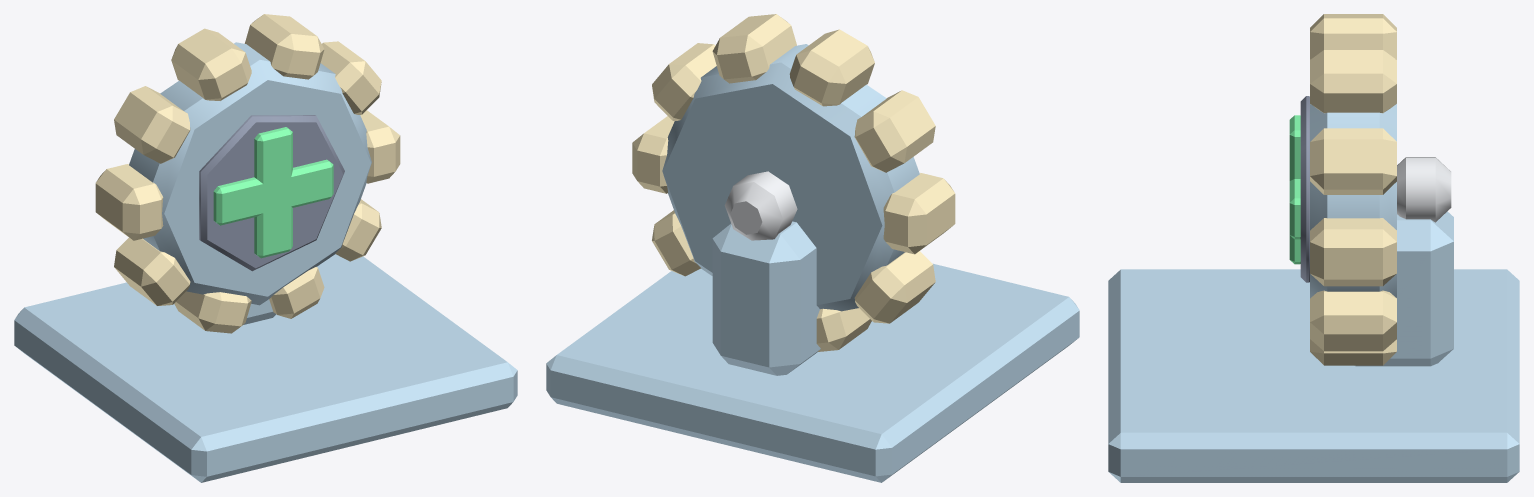
File: R4X_RepairBooster_LOD1.glb
3 views of the same model, side by side, from view 1: azimuth 30°, elevation 25°; view 2: azimuth 150°, elevation 25°; view 3: azimuth 270°, elevation 25° (orthographic). The views are drawn at different scales.
Visible parts, largest first — view 1: R4X_RepairBooster_LOD1; view 2: R4X_RepairBooster_LOD1; view 3: R4X_RepairBooster_LOD1.
Boxes of the visible parts, left/top/right/bottom form: R4X_RepairBooster_LOD1: left=14, top=14, right=517, bottom=482; R4X_RepairBooster_LOD1: left=546, top=14, right=1079, bottom=482; R4X_RepairBooster_LOD1: left=1108, top=14, right=1519, bottom=482.
Bounding box in the file's own units: 0.52 × 0.5121 × 0.52.
